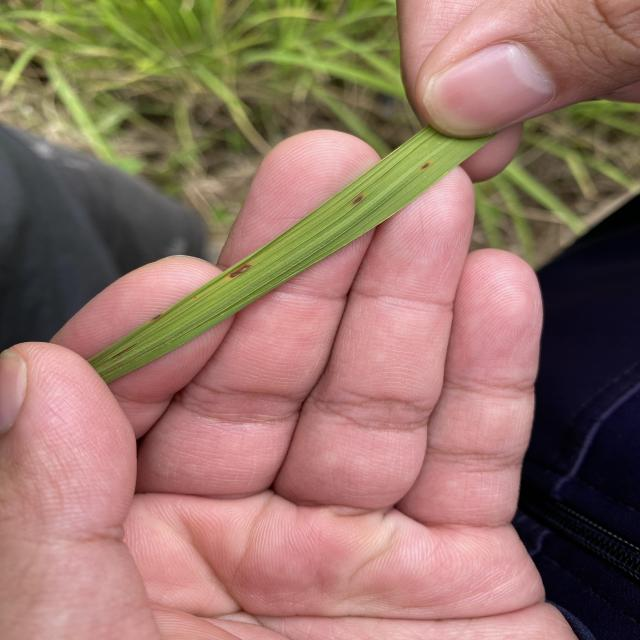Dom nau: (112, 341, 139, 358), (227, 263, 254, 279), (352, 196, 364, 203), (152, 313, 162, 320), (421, 162, 430, 169)
